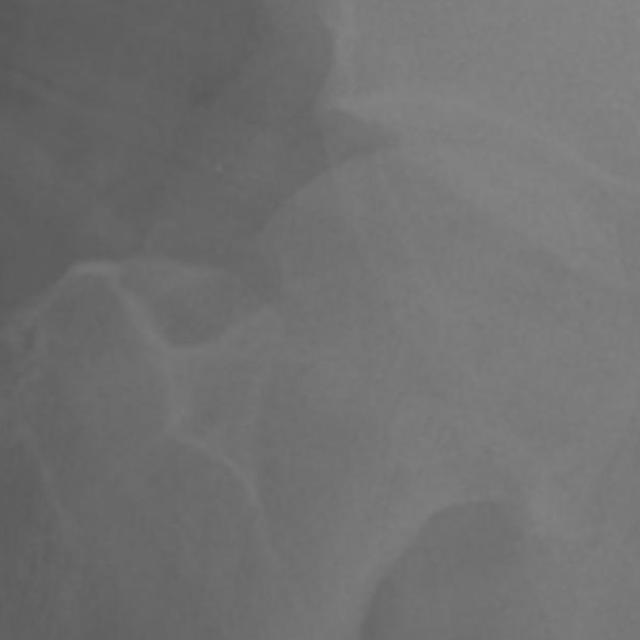Fitted_femural_head: (418, 141, 432, 418)
